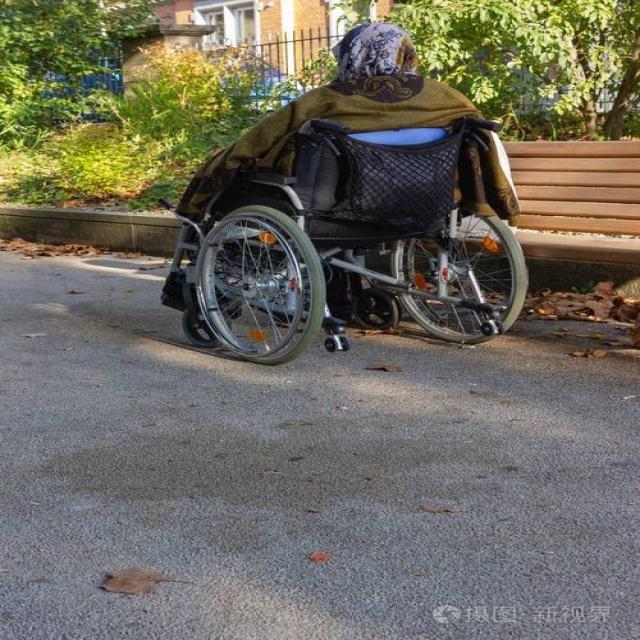wheelchairs: (132, 112, 539, 366)
